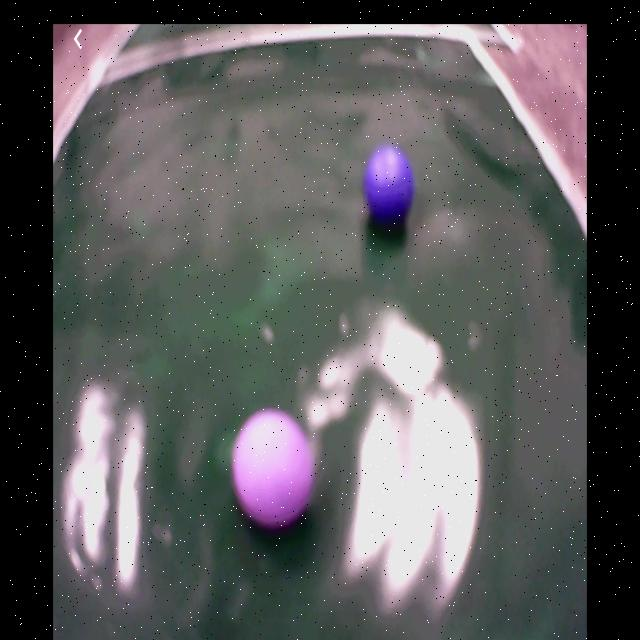ball: (235, 409, 316, 529), (366, 147, 414, 230)
